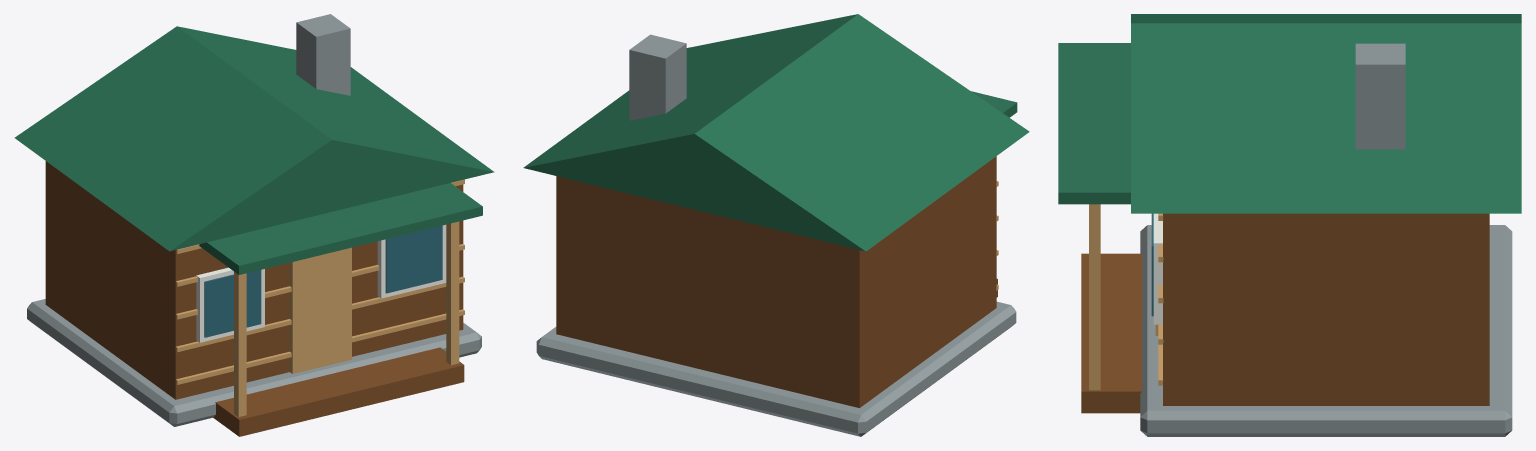
File: ranger_cabin.glb
The picture shows the model from 3 angles, left to right: view 1: azimuth 30°, elevation 25°; view 2: azimuth 150°, elevation 25°; view 3: azimuth 270°, elevation 25°; orthographic projection. The views are drawn at different scales.
Visible parts, largest first — view 1: ranger_cabin__static; view 2: ranger_cabin__static; view 3: ranger_cabin__static.
Boxes of the visible parts, box(x1,y1,x2,y2) form: ranger_cabin__static: box(14, 14, 494, 436); ranger_cabin__static: box(523, 14, 1029, 436); ranger_cabin__static: box(1058, 14, 1521, 436).
Bounding box in the file's own units: 5.2 × 4.2 × 5.1.
